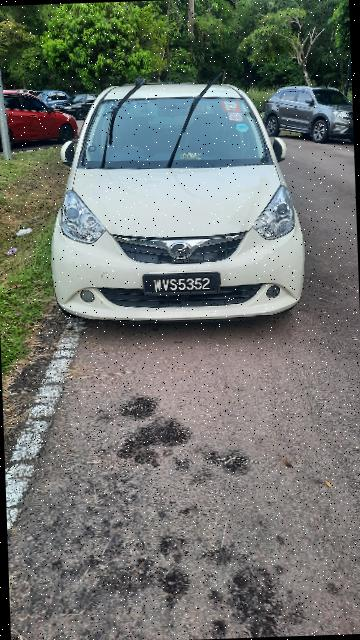License_Plate: (142, 270, 222, 299)
car: (48, 76, 309, 330)
